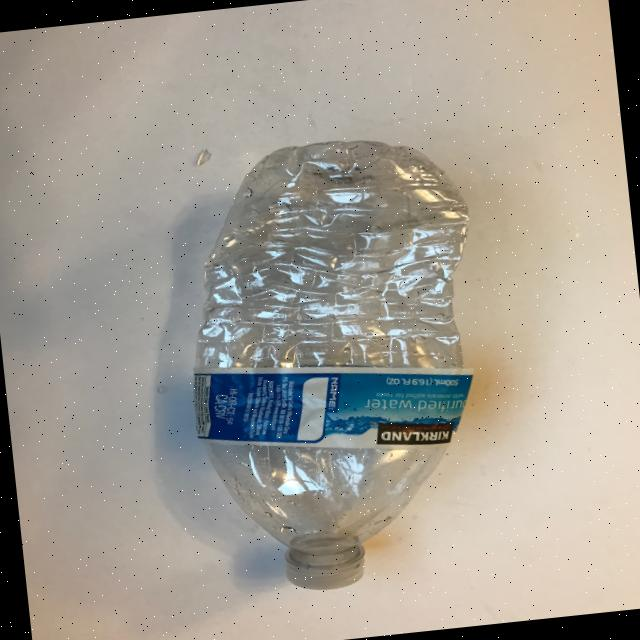plastic: (165, 126, 506, 600)
